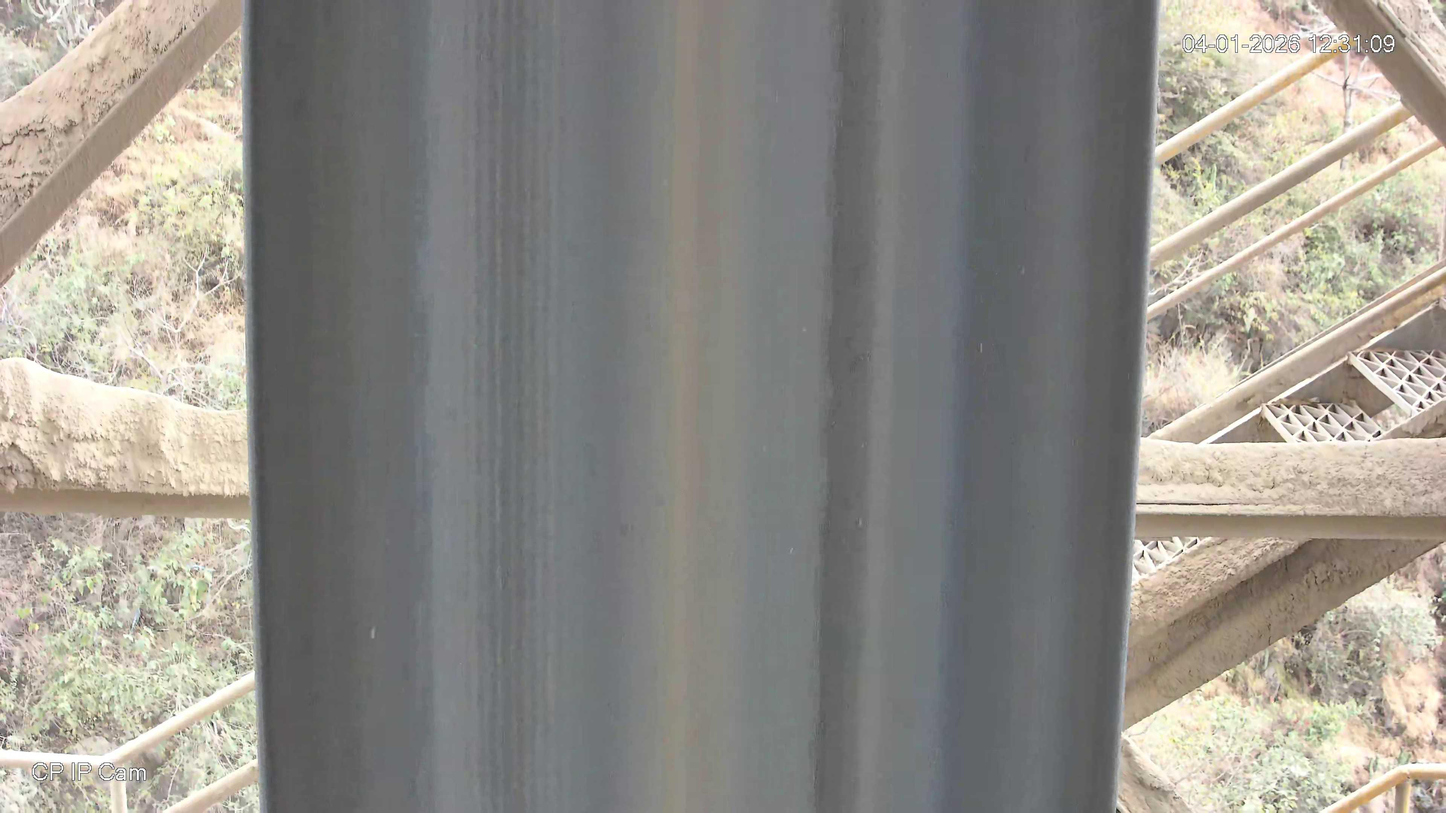belt_roi: (240, 0, 1161, 813)
